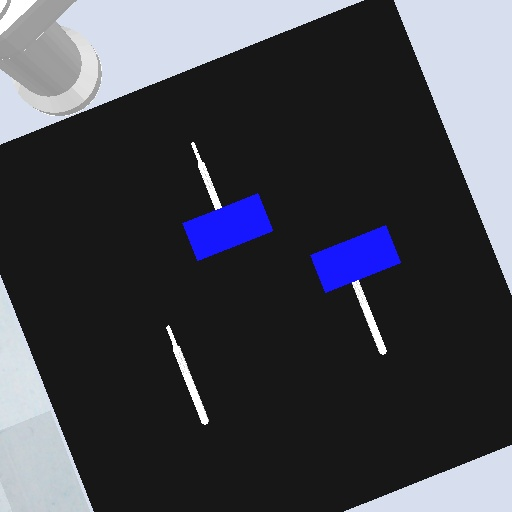bisturi: (163, 320, 212, 428), (350, 278, 389, 358), (187, 139, 224, 214)
